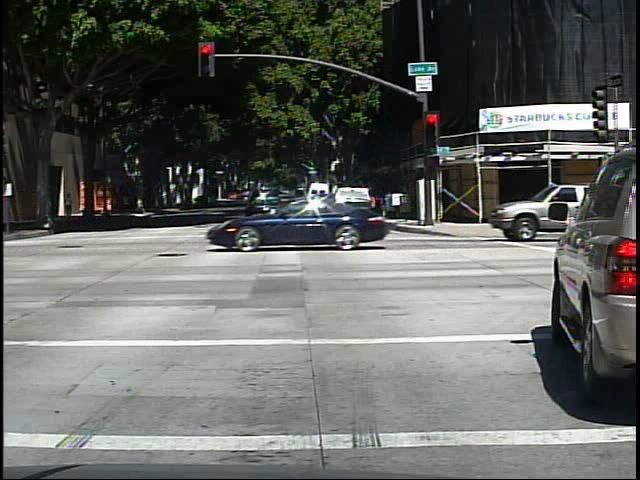person: (63, 191, 75, 220)
